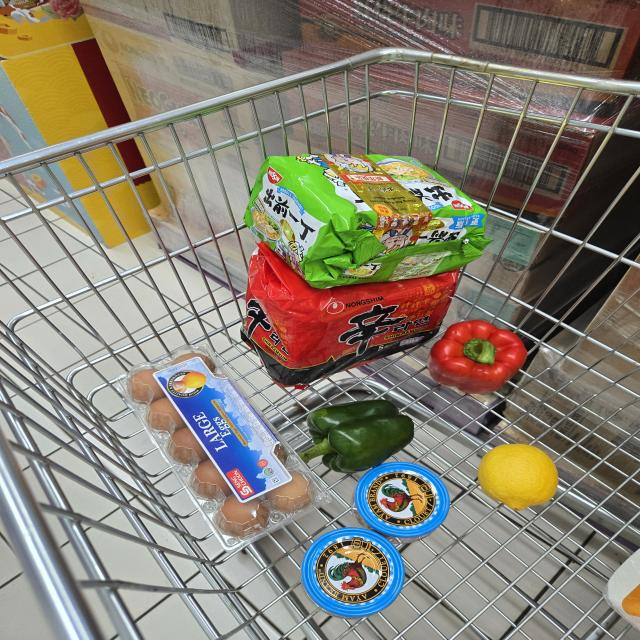bell-pepper: (295, 396, 427, 472), (438, 309, 536, 402)
eggs: (122, 349, 325, 539)
instant-noodle: (244, 146, 504, 296), (235, 235, 458, 378)
lemon: (472, 437, 571, 517)
tuna-can: (293, 525, 410, 626), (348, 460, 452, 538)
